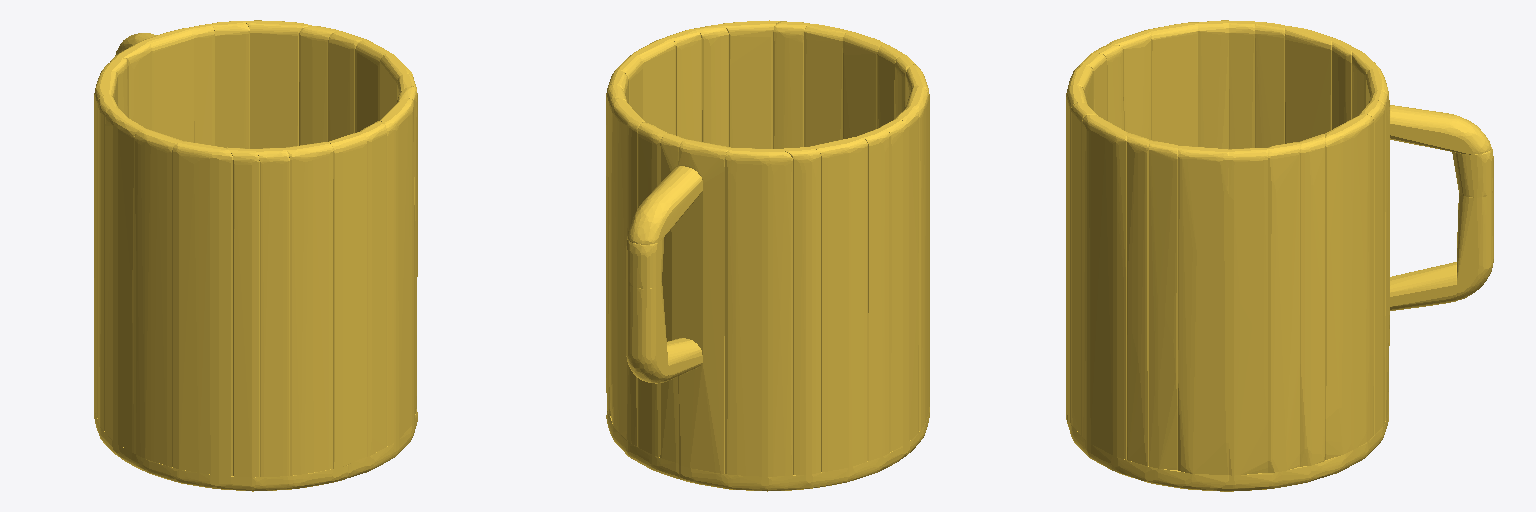
robot.urdf — 425.urdf:
<?xml version="1.0" ?>
<robot name="425.urdf">
	<link name="baseLink">
		<inertial>
			<origin rpy="0 0 0" xyz="0 0 0"/>
				<mass value="0.1"/>
				<inertia ixx="6e-5" ixy="0" ixz="0" iyy="6e-5" iyz="0" izz="6e-5"/>
		</inertial>
		<visual>
			<origin rpy="0 0 0" xyz="0 0 0"/>
			<geometry>
				<mesh filename="39_decom_wt.obj" scale="1.01 1.01 0.89"/>
			</geometry>
			<material name="yellow">
				<color rgba="0.98 0.84 0.35 1"/>
			</material>
		</visual>
		<collision>
			<origin rpy="0 0 0" xyz="0 0 0"/>
			<geometry>
				<mesh filename="39_decom_wt.obj" scale="1.01 1.01 0.89"/>
			</geometry>
		</collision>
	</link>
</robot>

--- Render facts (derived) ---
The picture shows the robot from 3 angles, left to right: view 1: azimuth 30°, elevation 25°; view 2: azimuth 150°, elevation 25°; view 3: azimuth 270°, elevation 25°; orthographic projection.
Model 425.urdf with 1 links and 0 joints (none), rooted at baseLink, posed every joint at zero.
Visible links, largest first — view 1: baseLink; view 2: baseLink; view 3: baseLink.
Link boxes in pixels (box(x1,y1,x2,y2)): baseLink: box(94, 20, 417, 491); baseLink: box(606, 20, 929, 491); baseLink: box(1066, 20, 1493, 491).
Size in the robot's own frame: 0.1064 by 0.1409 by 0.1242 metres.
Meshes: 1 distinct files referenced, 1 mesh visuals loaded (1 OBJ).